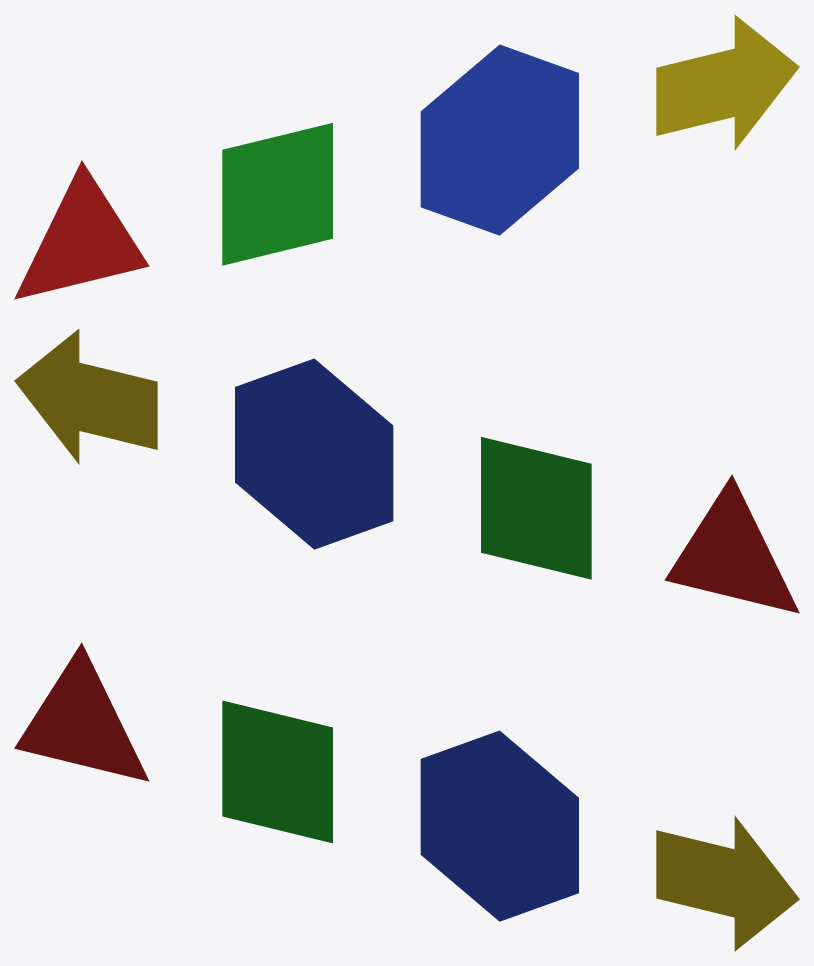
File: m02_geo_ngons.fbx
The picture shows the model from 3 angles, top to bottom: view 1: azimuth 30°, elevation 25°; view 2: azimuth 150°, elevation 25°; view 3: azimuth 330°, elevation 25°; orthographic projection.
Visible parts, largest first — view 1: Ngons; view 2: Ngons; view 3: Ngons.
Part boxes in pixels (box(x1,y1,x2,y2)): Ngons: box(14, 15, 799, 299); Ngons: box(14, 329, 799, 613); Ngons: box(14, 642, 799, 951).
Bounding box in the file's own units: 6.02 × 1.4 × 0.
